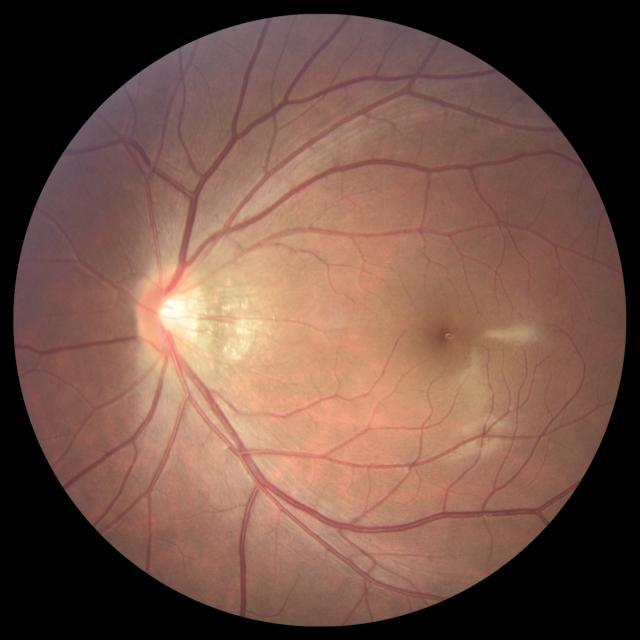OC: (158, 292, 188, 332)
OD: (133, 262, 201, 362)
